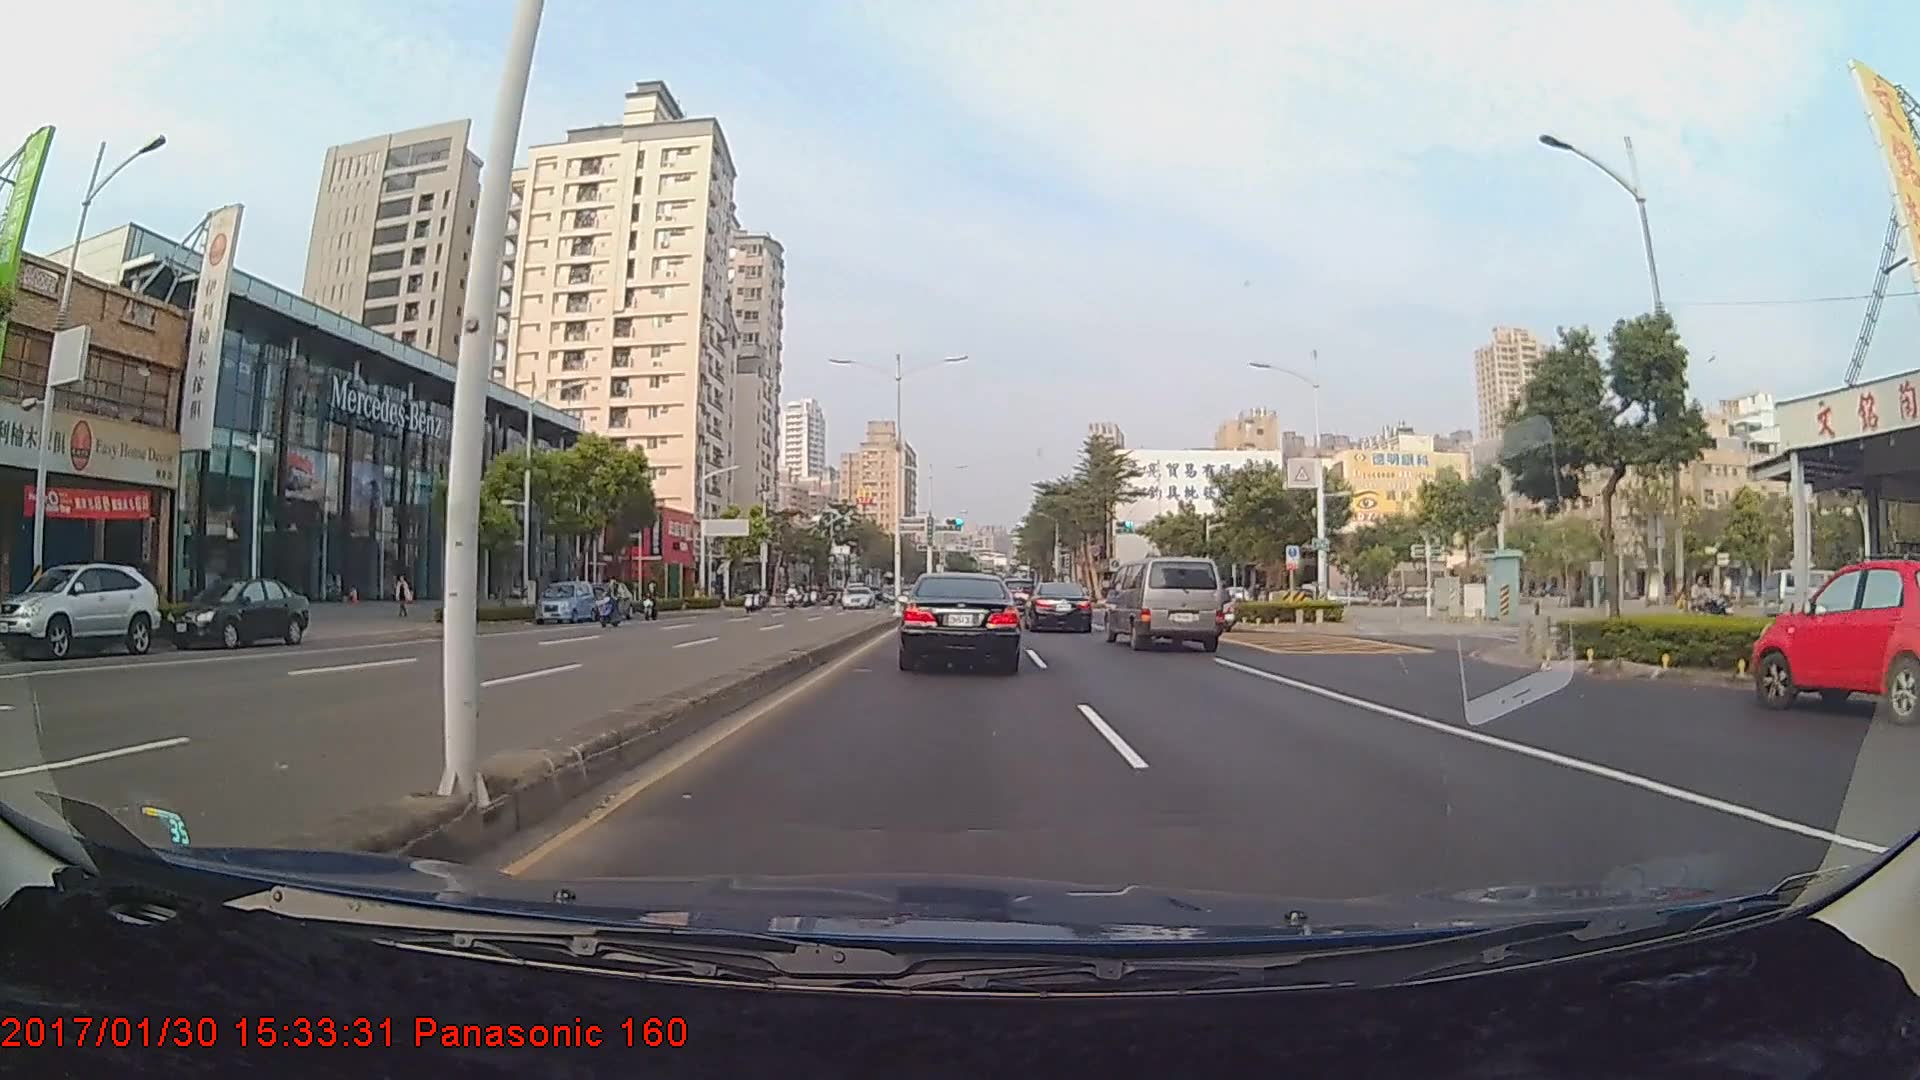pedestrian: (392, 572, 415, 619)
rider: (598, 576, 627, 631)
vehicle: (1747, 555, 1920, 730), (0, 562, 162, 659), (899, 570, 1021, 672), (1104, 555, 1224, 652), (165, 574, 309, 650), (1024, 581, 1094, 634), (533, 578, 595, 623), (581, 579, 632, 620), (839, 584, 877, 609)
